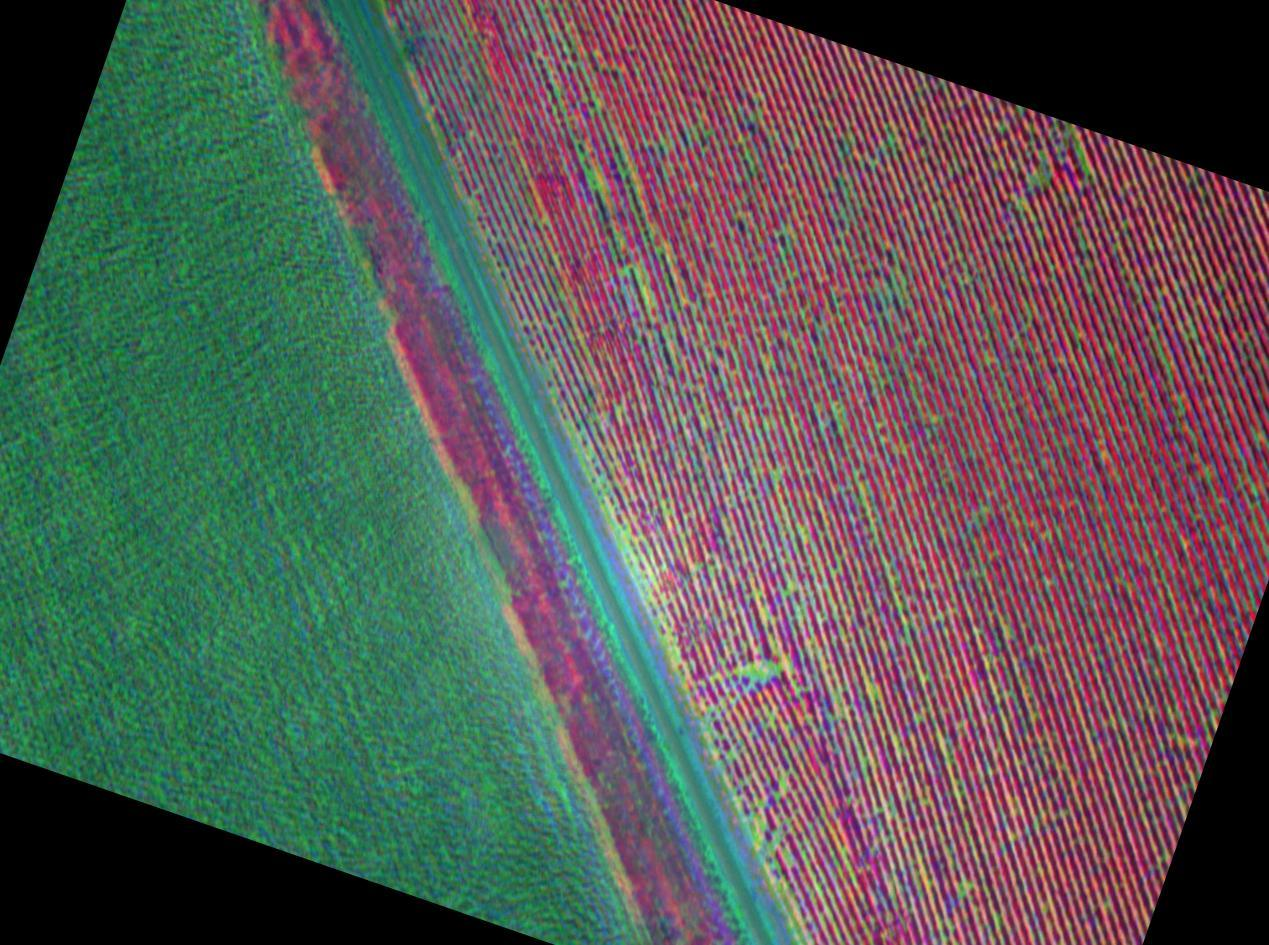dc: (1042, 174, 1048, 180), (768, 667, 774, 673), (586, 172, 592, 177), (762, 609, 767, 615), (745, 668, 751, 673), (578, 449, 583, 454), (917, 717, 921, 722), (625, 270, 629, 273)
